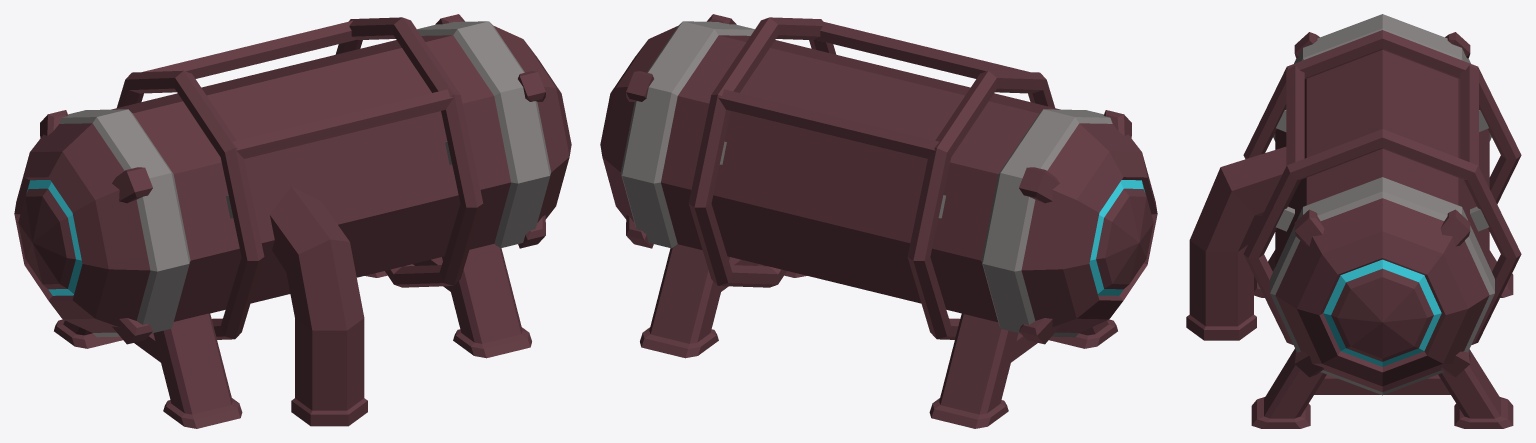
Rendered from scifi-storage-water.fbx.
3 renders of one model, left to right at view 1: azimuth 30°, elevation 25°; view 2: azimuth 150°, elevation 25°; view 3: azimuth 270°, elevation 25°, orthographic. The views are drawn at different scales.
Parts seen in each view (by area): view 1: scifi-storage-water; view 2: scifi-storage-water; view 3: scifi-storage-water.
Boxes of the visible parts, x1=… form: scifi-storage-water: x1=14, y1=14, x2=571, y2=428; scifi-storage-water: x1=600, y1=14, x2=1157, y2=428; scifi-storage-water: x1=1186, y1=14, x2=1521, y2=428.
Size of the model in its own units: 5.2 by 2.79 by 3.13.
